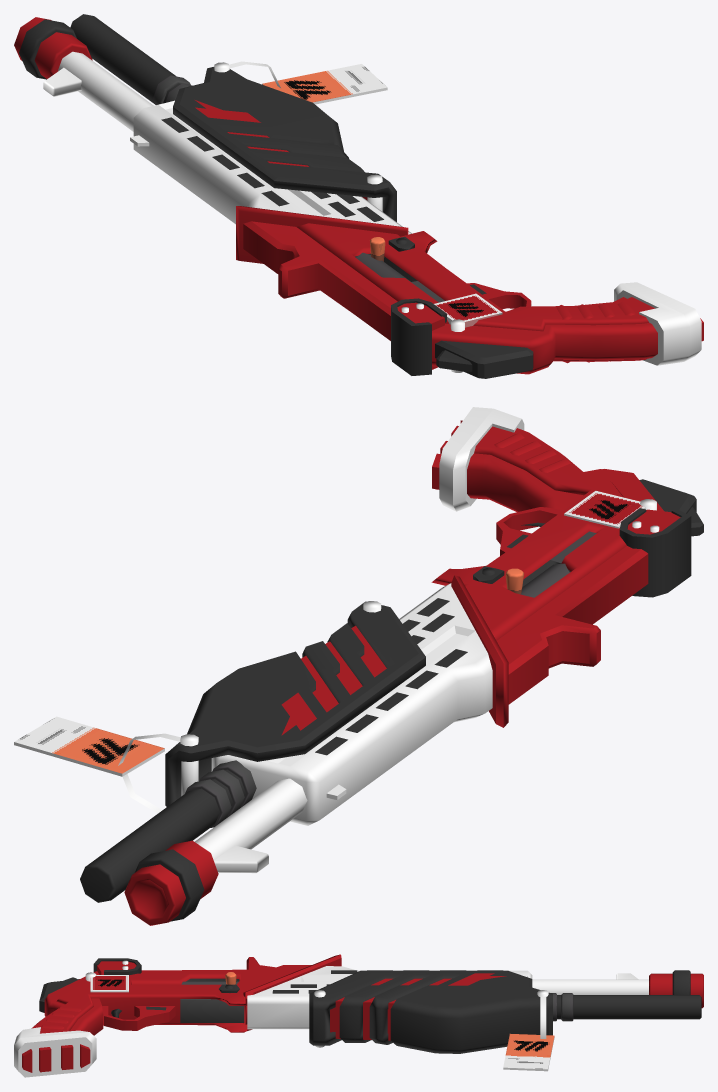
The model's file is eimi.glb.
3 renders of one model, top to bottom at view 1: azimuth 30°, elevation 25°; view 2: azimuth 150°, elevation 25°; view 3: azimuth 270°, elevation 25°, orthographic. The views are drawn at different scales.
Parts seen in each view (by area): view 1: Eimi_Origninal_Weapon; view 2: Eimi_Origninal_Weapon; view 3: Eimi_Origninal_Weapon.
Boxes of the visible parts, box(x1,y1,x2,y2) form: Eimi_Origninal_Weapon: box(14, 14, 703, 378); Eimi_Origninal_Weapon: box(14, 407, 703, 925); Eimi_Origninal_Weapon: box(14, 954, 703, 1077).
Size of the model in its own units: 0.1995 by 0.0487 by 0.5725.
1 material, 1 textured.
